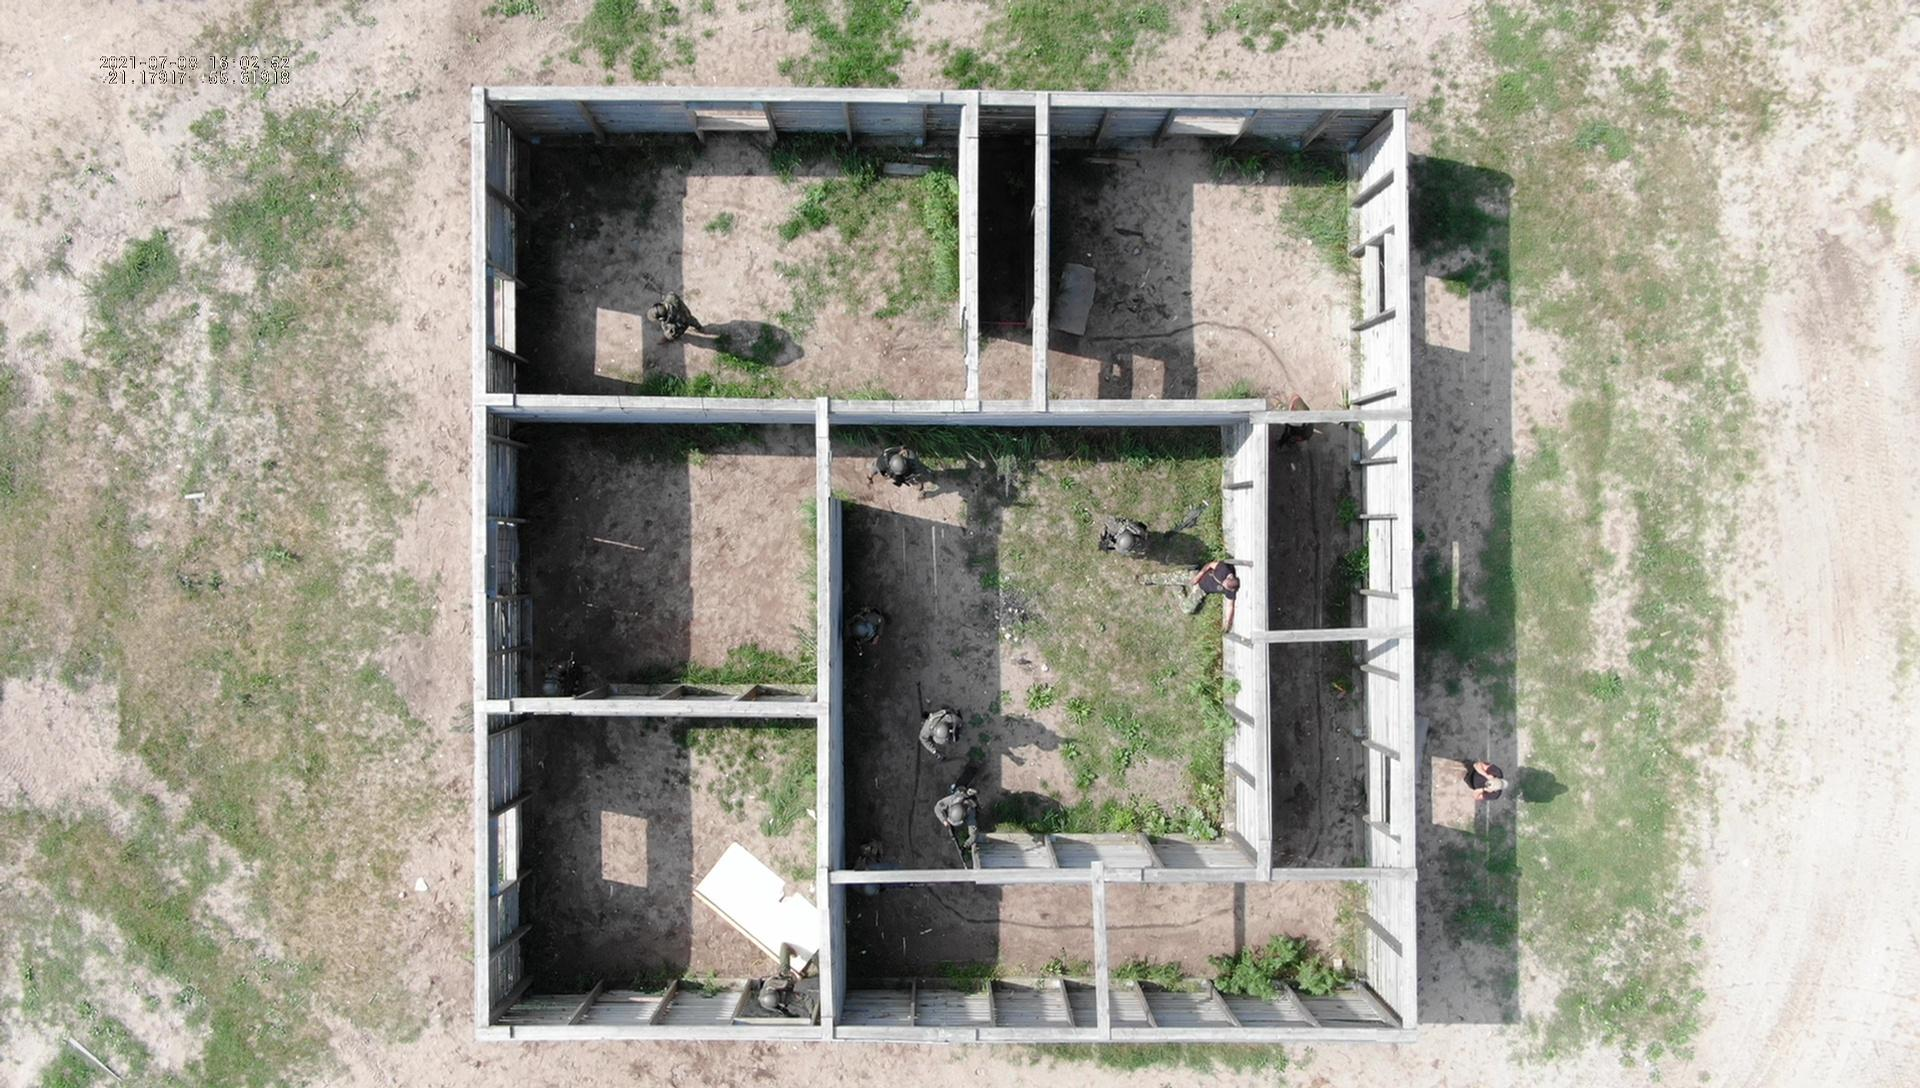Soldier: (1135, 555, 1254, 640), (750, 943, 822, 1029), (922, 775, 992, 859), (858, 446, 938, 513), (902, 699, 969, 771), (647, 295, 721, 352), (839, 597, 894, 667), (1102, 506, 1160, 571)
